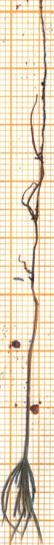flower: (0, 454, 54, 545)
root: (17, 0, 49, 280)
stem: (22, 283, 45, 459)
